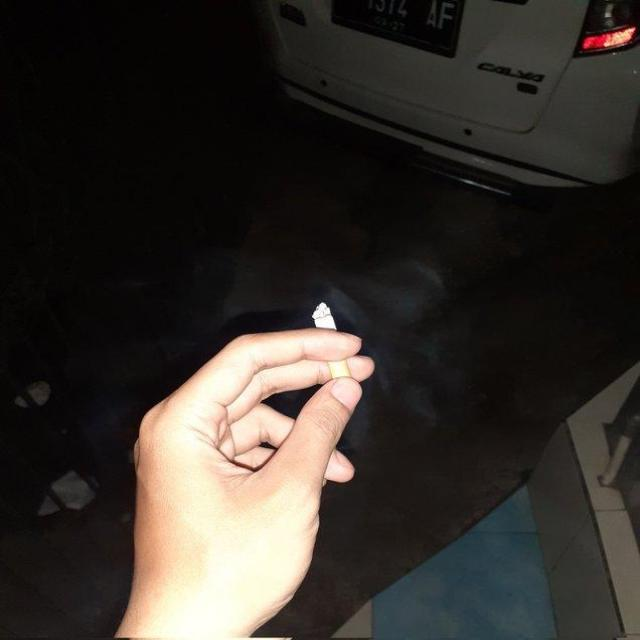rokok: (304, 294, 358, 402)
